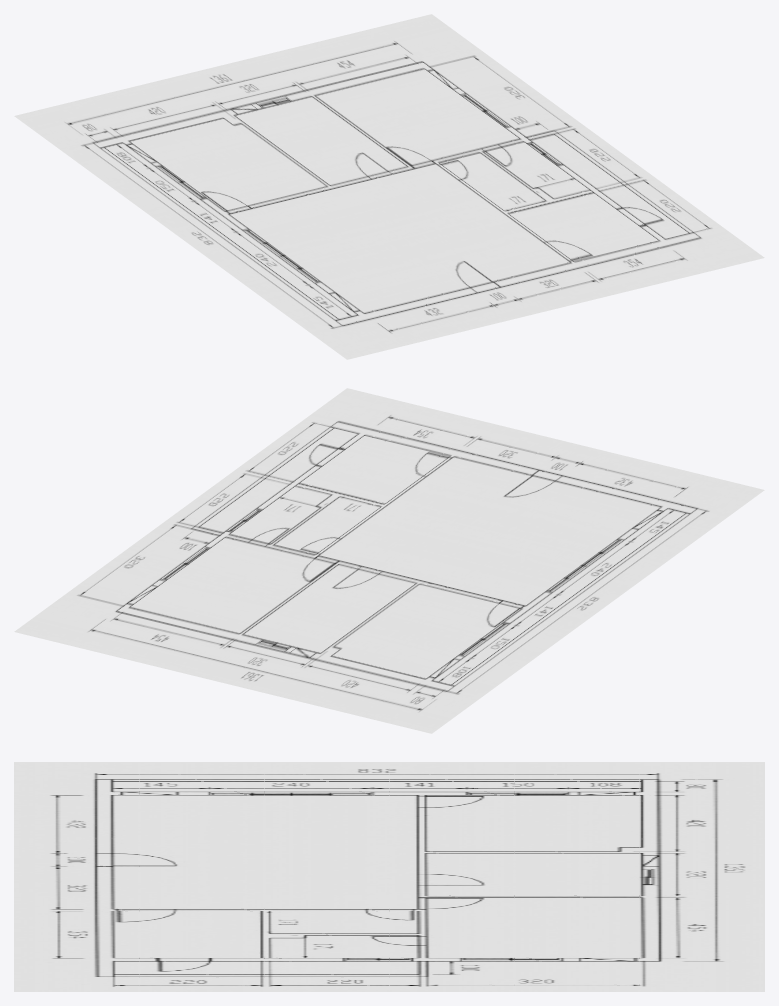
Rendered from 設計圖3.fbx.
The picture shows the model from 3 angles, top to bottom: view 1: azimuth 30°, elevation 25°; view 2: azimuth 150°, elevation 25°; view 3: azimuth 270°, elevation 25°; orthographic projection. The views are drawn at different scales.
Parts seen in each view (by area): view 1: Plane002; view 2: Plane002; view 3: Plane002.
Boxes of the visible parts, x1,y1,x2,y2 form: Plane002: (14, 14, 764, 359); Plane002: (14, 388, 764, 733); Plane002: (14, 762, 764, 991).
Size of the model in its own units: 210 by 1.78e-14 by 290.
Materials: 1 (1 with a texture image).
